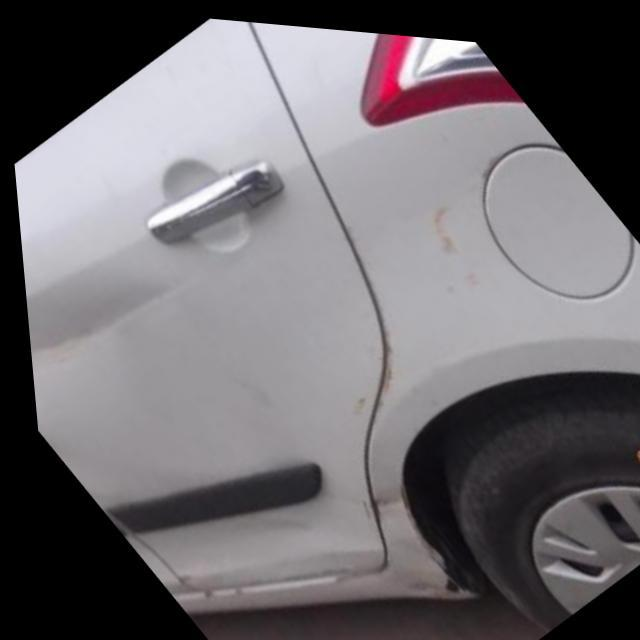crack: (414, 193, 481, 287)
dent: (17, 205, 189, 373), (238, 507, 329, 536)
dislocated part: (332, 210, 394, 425)
rub: (344, 475, 464, 598), (155, 566, 242, 602)
